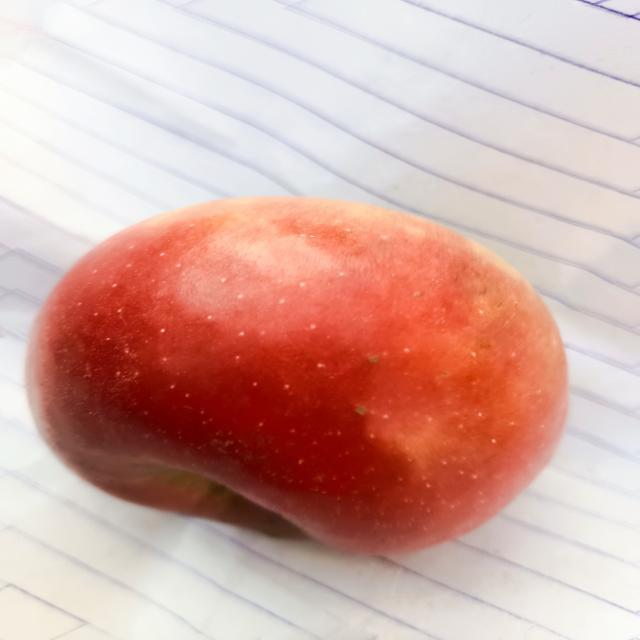Fresh Apple: (24, 187, 574, 558)
